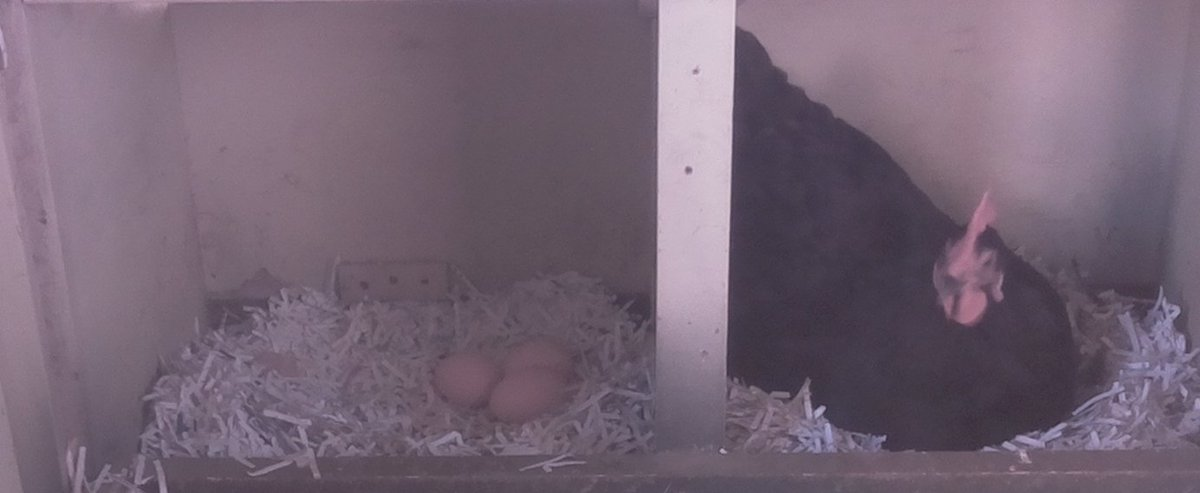egg: (483, 362, 572, 427), (430, 349, 505, 410), (499, 332, 581, 379)
hen: (735, 46, 1087, 443)
